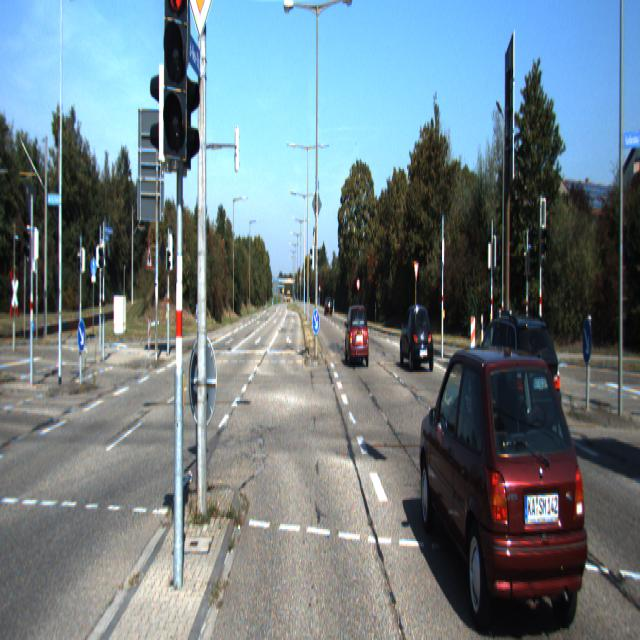Car: (418, 334, 590, 638), (462, 311, 563, 452), (400, 304, 434, 374), (345, 304, 369, 368)
